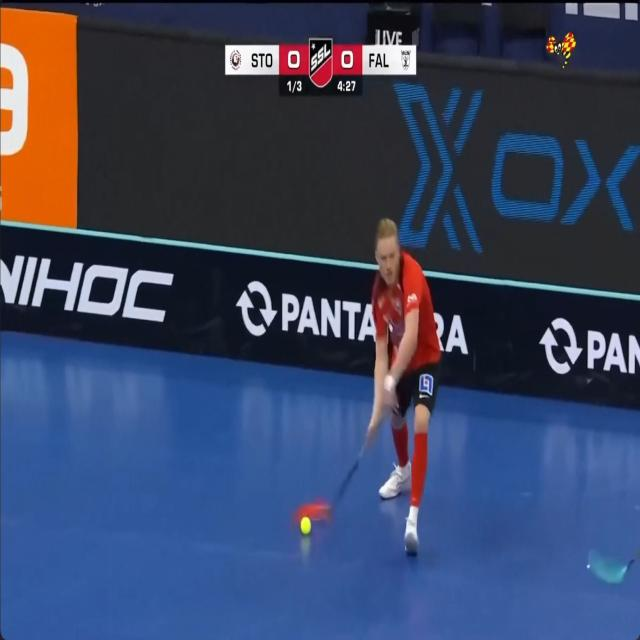Balls: (300, 516, 311, 534)
player: (367, 219, 440, 554)
